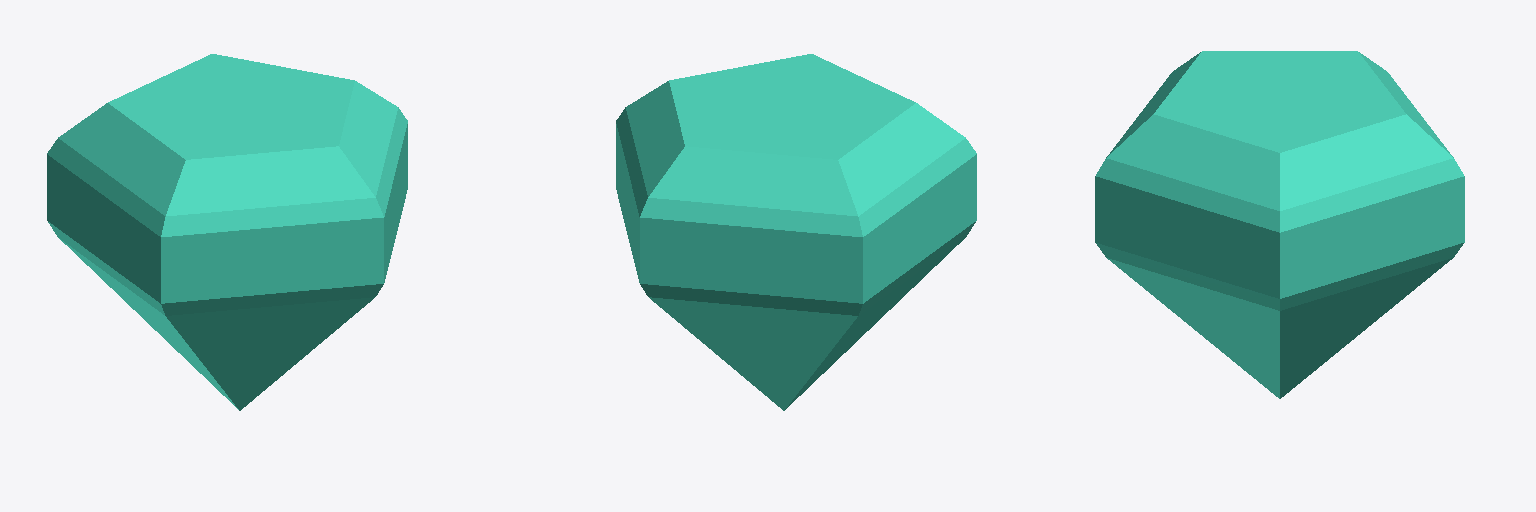
File: diamond.obj
The picture shows the model from 3 angles: view 1: azimuth 30°, elevation 25°; view 2: azimuth 150°, elevation 25°; view 3: azimuth 270°, elevation 25°; orthographic projection.
Parts seen in each view (by area): view 1: Cylinder001; view 2: Cylinder001; view 3: Cylinder001.
Part boxes in pixels (bbox=[...]): Cylinder001: bbox=[47, 54, 407, 410]; Cylinder001: bbox=[616, 54, 976, 410]; Cylinder001: bbox=[1095, 51, 1464, 398].
Size of the model in its own units: 0.9604 by 0.9125 by 1.01.